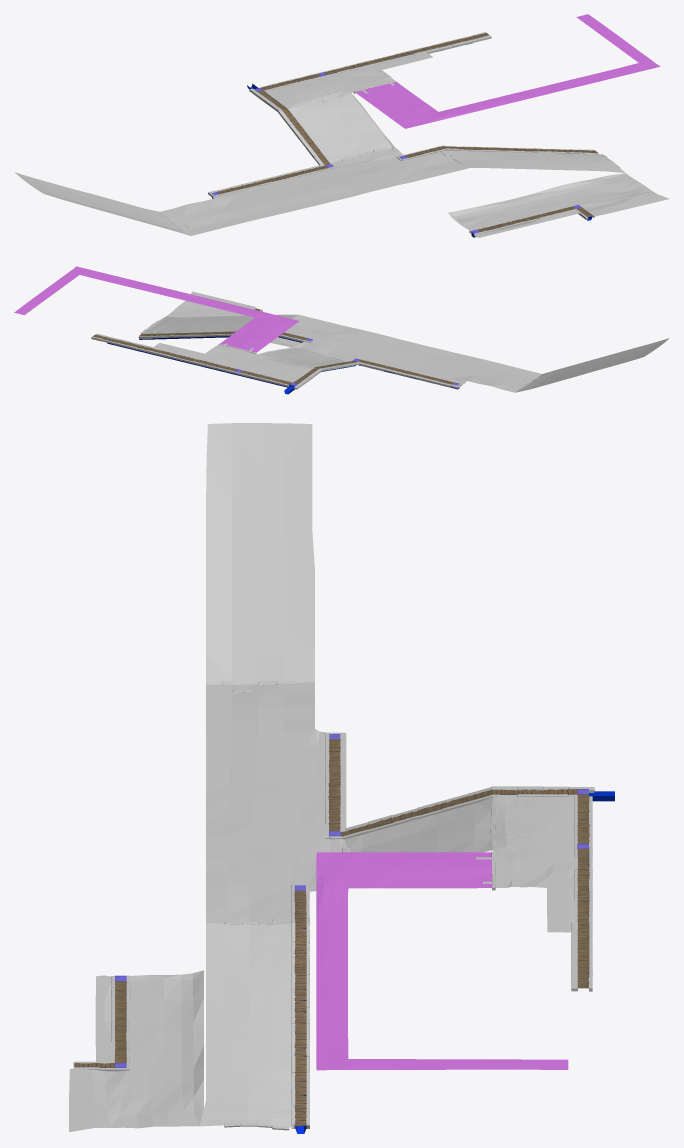
The model's file is SM_ENV_KNVLLG_ground_03.mo.fbx.
The picture shows the model from 3 angles, top to bottom: view 1: azimuth 30°, elevation 25°; view 2: azimuth 150°, elevation 25°; view 3: azimuth 270°, elevation 25°; orthographic projection. The views are drawn at different scales.
Visible parts, largest first — view 1: SM_ENV_KNVLLG_ground_03.mo; view 2: SM_ENV_KNVLLG_ground_03.mo; view 3: SM_ENV_KNVLLG_ground_03.mo.
Part boxes in pixels (x1=…): SM_ENV_KNVLLG_ground_03.mo: x1=14, y1=14, x2=669, y2=237; SM_ENV_KNVLLG_ground_03.mo: x1=14, y1=266, x2=669, y2=394; SM_ENV_KNVLLG_ground_03.mo: x1=69, y1=423, x2=614, y2=1133.
Size of the model in its own units: 114 by 20.69 by 47.45.
